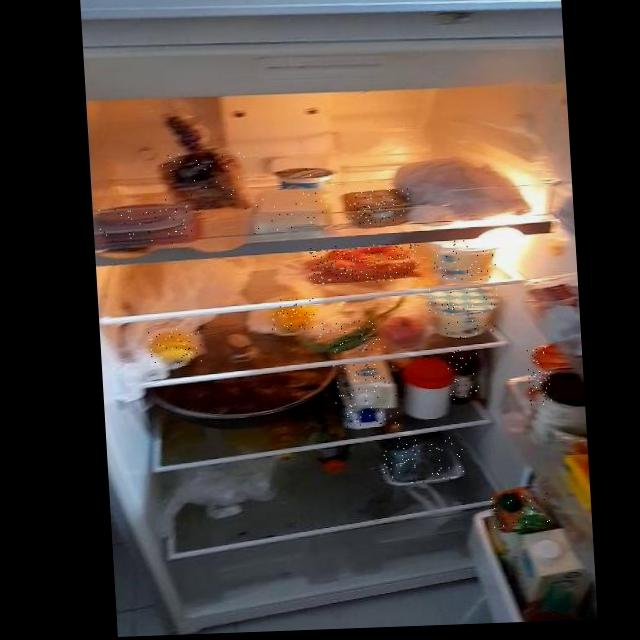bread: (161, 151, 249, 212)
broccoli: (379, 436, 464, 484)
butter: (344, 188, 410, 226)
carrot: (308, 243, 420, 285)
cheese: (247, 192, 333, 234)
green chilies: (319, 318, 387, 354)
juice: (489, 489, 553, 539)
lemon: (148, 328, 202, 365), (270, 297, 315, 331)
milk: (515, 530, 591, 618), (333, 362, 399, 427)
salami: (98, 203, 195, 246)
sauce: (447, 348, 481, 400), (527, 346, 553, 406)
yoghurt: (427, 287, 500, 339), (431, 237, 498, 282), (276, 163, 337, 190)
